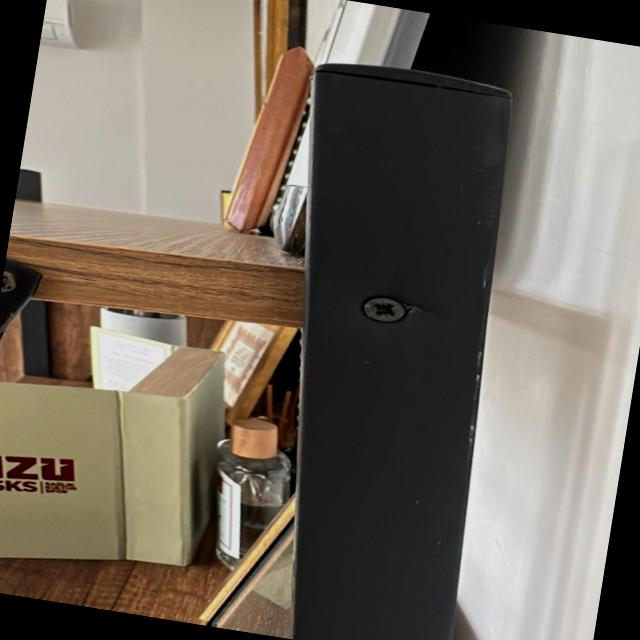Pozidriv: (351, 291, 414, 328)
